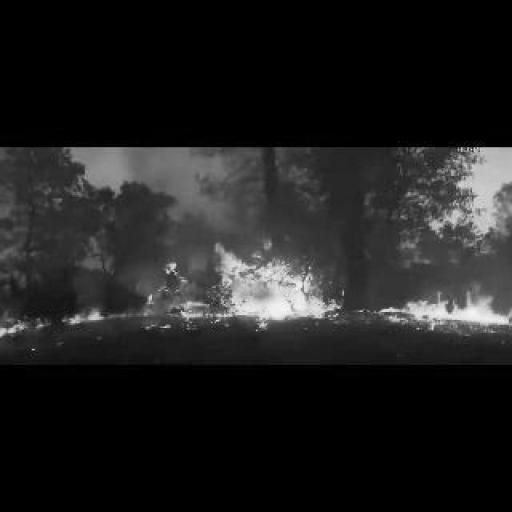smoke: (136, 230, 349, 333), (374, 277, 510, 333)
